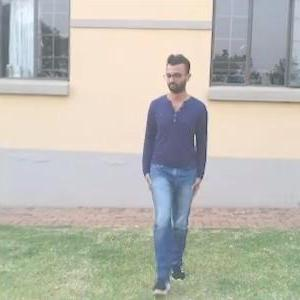follow: (139, 39, 215, 285)
